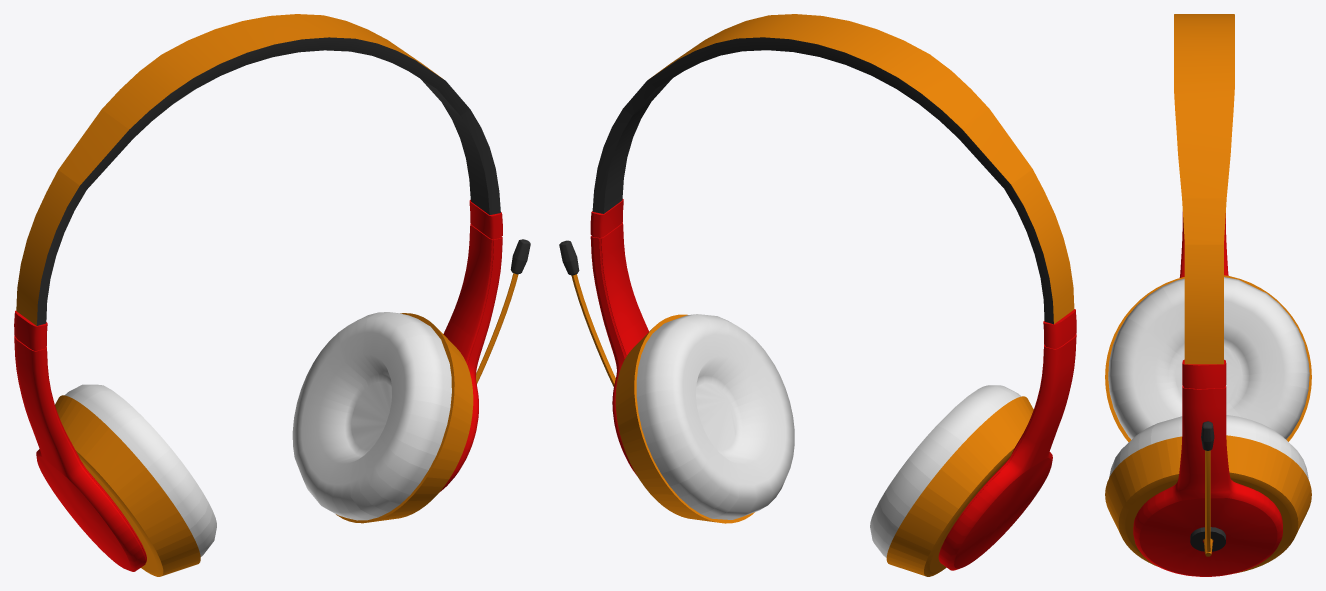
File: headphone.fbx
The picture shows the model from 3 angles, left to right: view 1: azimuth 30°, elevation 25°; view 2: azimuth 150°, elevation 25°; view 3: azimuth 270°, elevation 25°; orthographic projection. The views are drawn at different scales.
Visible parts, largest first — view 1: polySurface343, polySurface349, polySurface348, polySurface347, polySurface354, polySurface345, polySurface344, polySurface352; view 2: polySurface343, polySurface349, polySurface348, polySurface347, polySurface354, polySurface345, polySurface344, polySurface352; view 3: polySurface354, polySurface349, polySurface345, polySurface344, polySurface343, polySurface347, polySurface352, polySurface350, polySurface348, polySurface353.
Part boxes in pixels (left/top/right/bottom): polySurface343: left=292, top=312, right=451, bottom=520; polySurface349: left=16, top=14, right=500, bottom=325; polySurface348: left=14, top=310, right=146, bottom=571; polySurface347: left=55, top=395, right=200, bottom=576; polySurface354: left=65, top=384, right=216, bottom=556; polySurface345: left=439, top=200, right=502, bottom=492; polySurface344: left=336, top=313, right=473, bottom=523; polySurface352: left=476, top=273, right=518, bottom=384; polySurface343: left=636, top=314, right=794, bottom=519; polySurface349: left=592, top=14, right=1074, bottom=324; polySurface348: left=938, top=309, right=1076, bottom=570; polySurface347: left=886, top=396, right=1033, bottom=576; polySurface354: left=870, top=385, right=1021, bottom=557; polySurface345: left=590, top=199, right=648, bottom=475; polySurface344: left=615, top=314, right=754, bottom=523; polySurface352: left=571, top=274, right=615, bottom=386; polySurface354: left=1108, top=277, right=1309, bottom=439; polySurface349: left=1174, top=14, right=1234, bottom=364; polySurface345: left=1133, top=359, right=1282, bottom=576; polySurface344: left=1105, top=435, right=1311, bottom=573; polySurface343: left=1109, top=415, right=1308, bottom=479; polySurface347: left=1105, top=275, right=1311, bottom=442; polySurface352: left=1205, top=450, right=1210, bottom=552; polySurface350: left=1190, top=527, right=1225, bottom=551; polySurface348: left=1179, top=212, right=1228, bottom=277; polySurface353: left=1201, top=421, right=1214, bottom=450.
Bounding box in the file's own units: 24.7 × 23.62 × 9.15.
